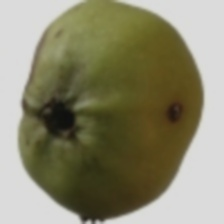apple: (18, 15, 191, 193)
